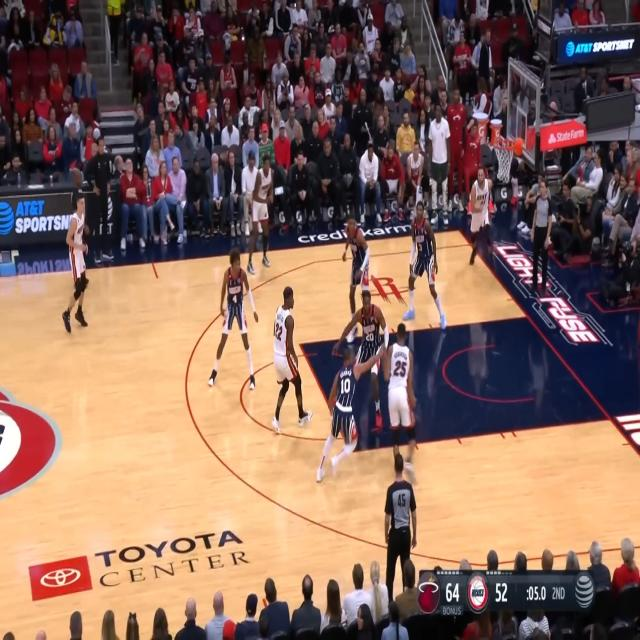Clock: (538, 0, 552, 23)
Hoop: (492, 139, 515, 183)
Overlay: (417, 569, 596, 616)
Player: (314, 344, 386, 483), (331, 288, 389, 427), (207, 248, 259, 391), (272, 286, 313, 435), (402, 200, 447, 331), (383, 321, 418, 486), (62, 192, 89, 332), (342, 214, 370, 342), (247, 154, 274, 274), (469, 166, 497, 268)
Ref: (383, 453, 417, 617), (530, 176, 553, 301)
Scoreboard: (417, 570, 569, 616)
